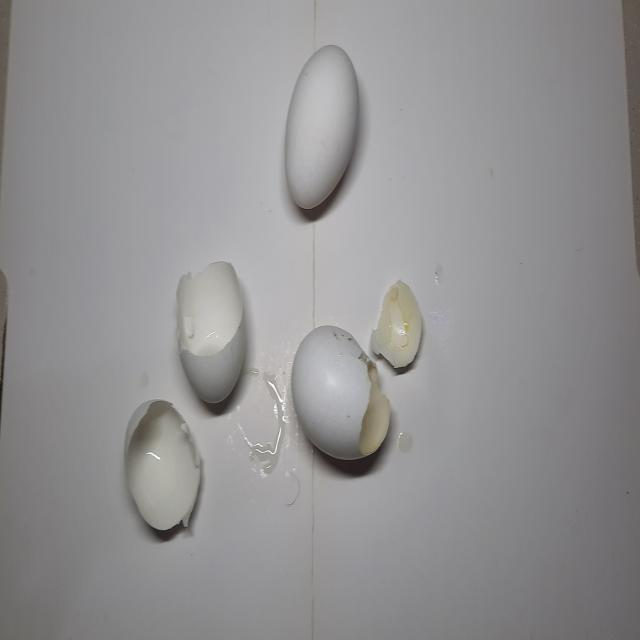egg shell: (285, 325, 395, 475), (282, 38, 362, 218), (171, 250, 251, 414), (120, 395, 206, 544), (370, 276, 428, 372)
